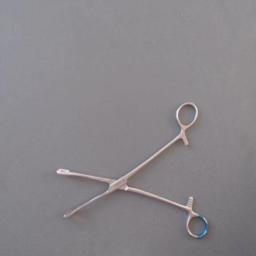Sponge Forceps: (50, 96, 214, 246)
